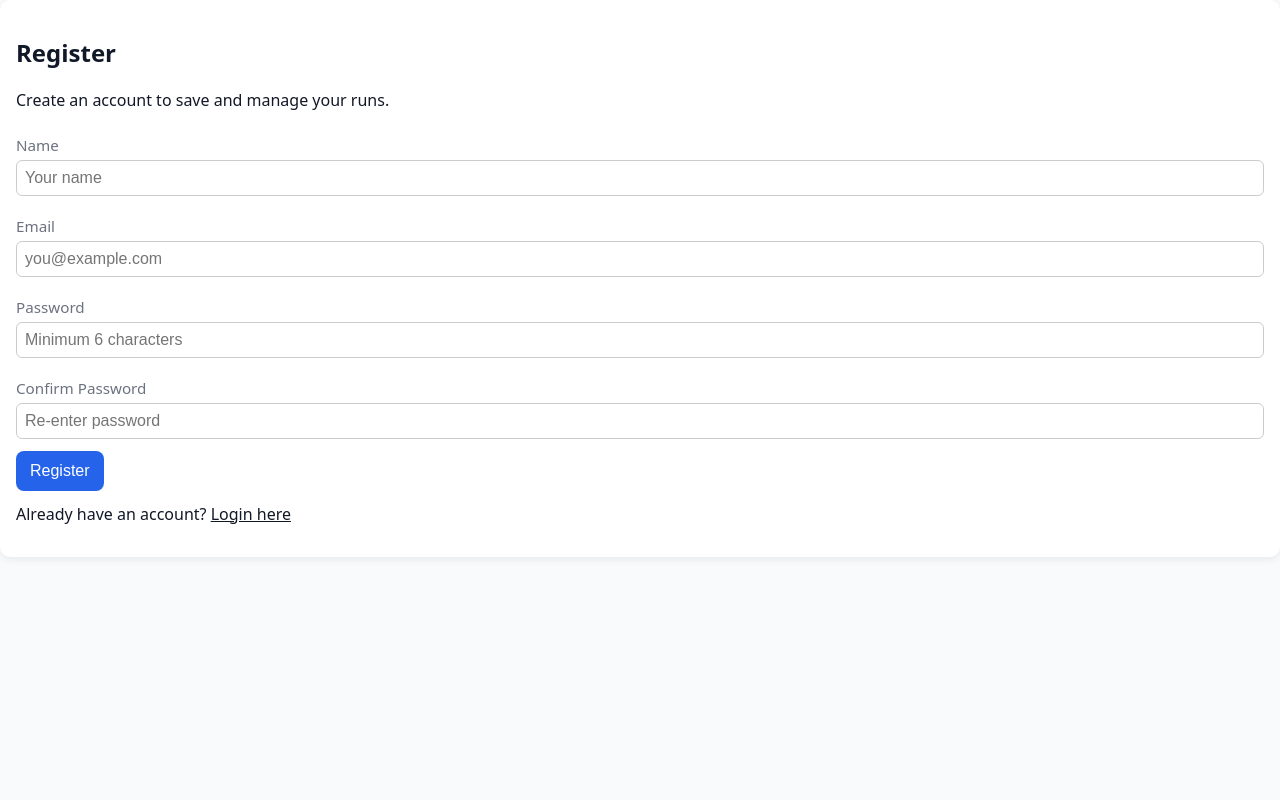
RegisterPage › shows error when fields are empty
Click the button "Register" at x=60, y=471, box [16,451,104,491]
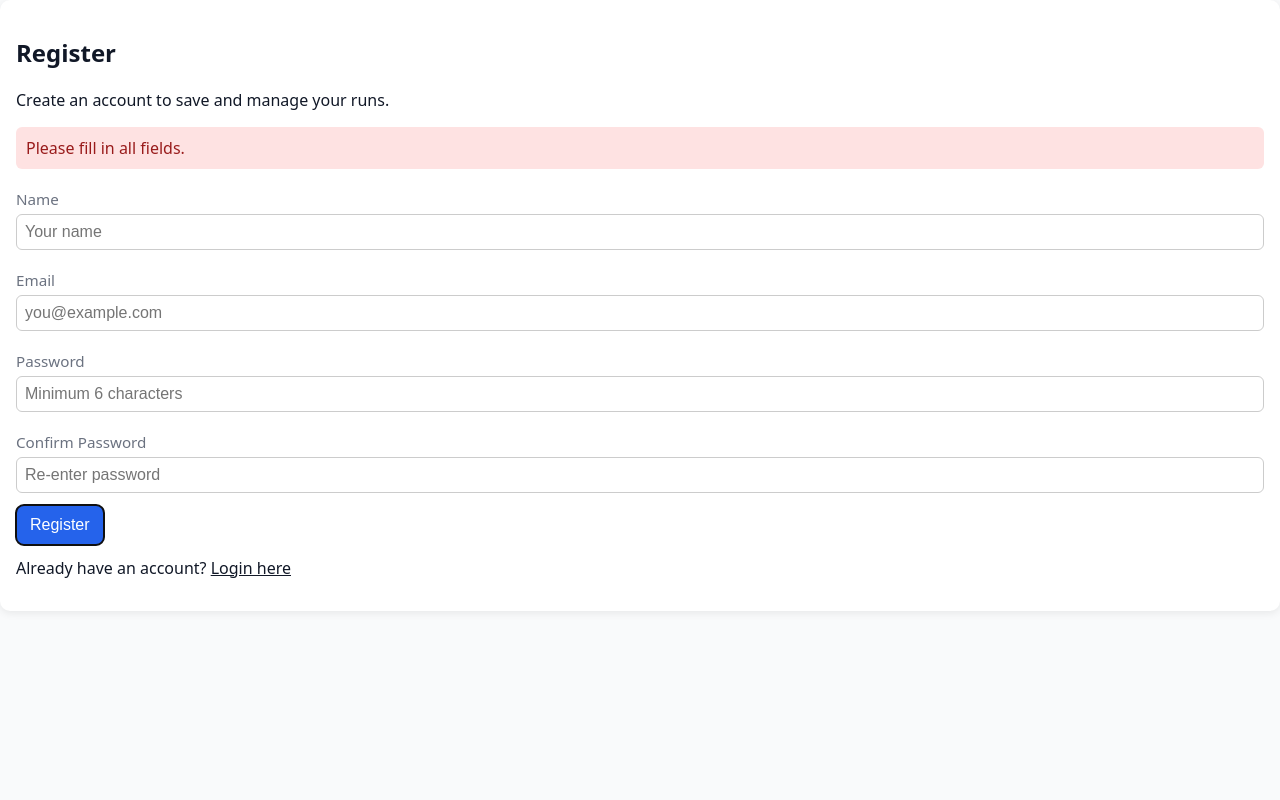
Result: the text "Please fill in all fields." is shown at [16,127,1264,169]
